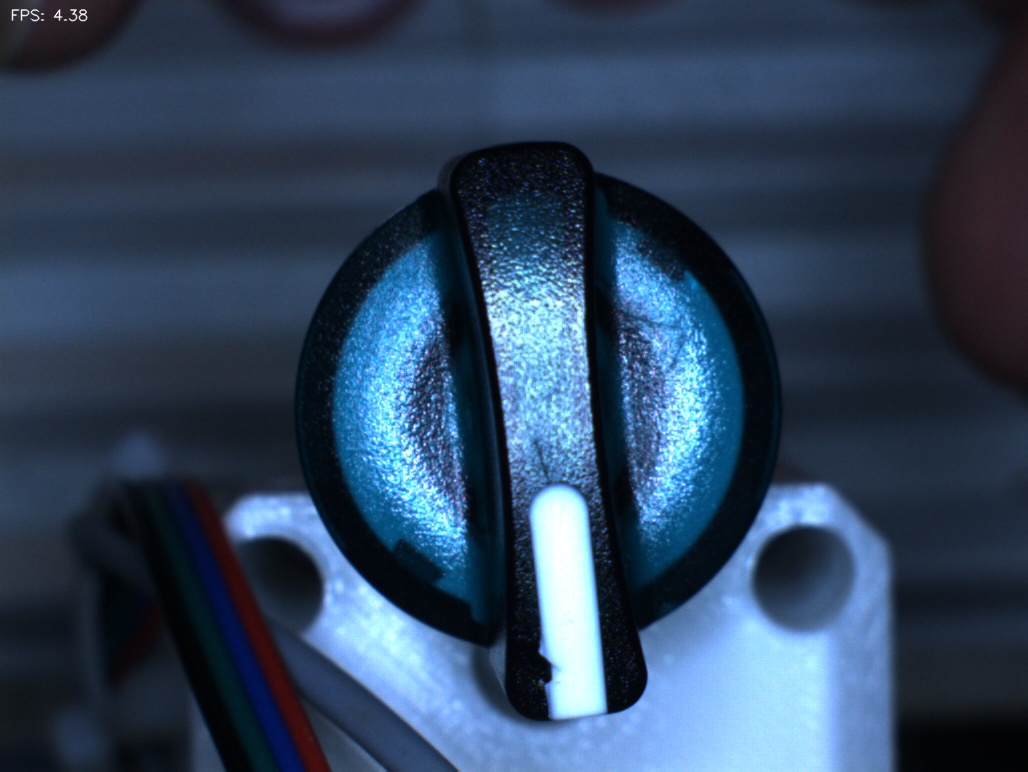Choc: (517, 635, 589, 707)
